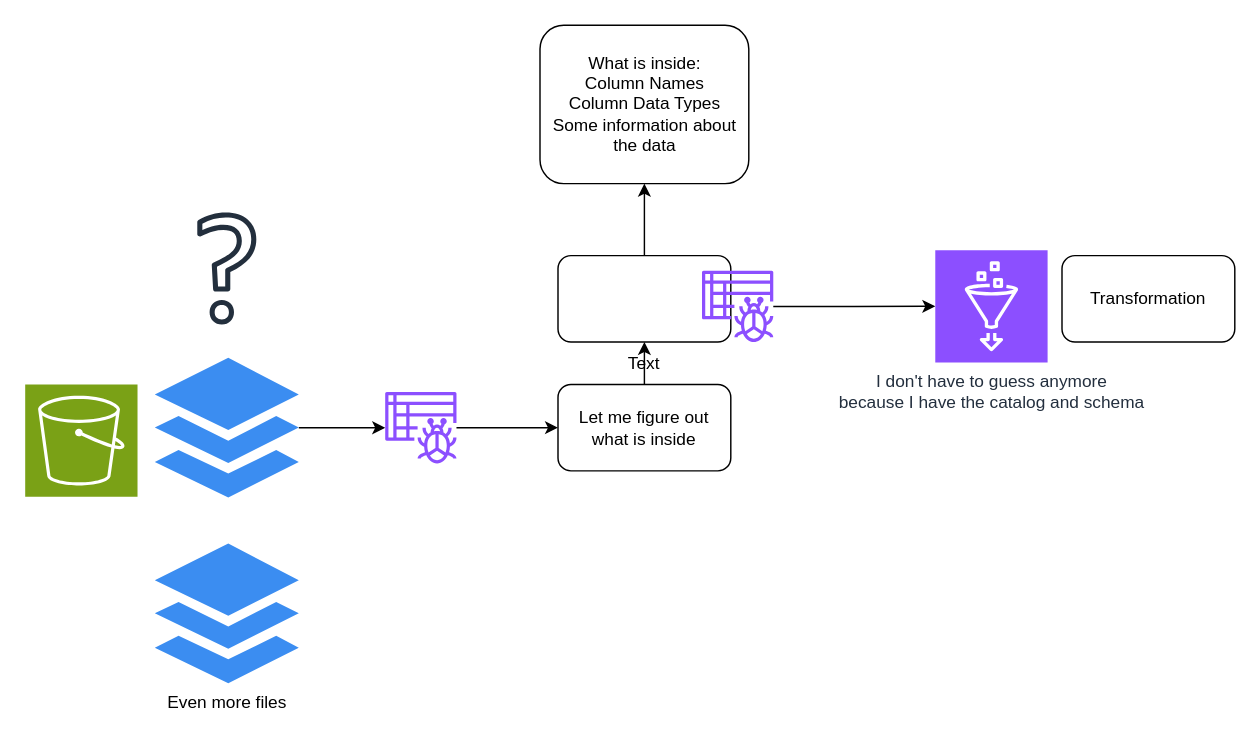
Some shapes in this 1260 by 739 pixel diagram are drawn without their labels. Here are the shapes that lost their labels. From the top down, the centre of each, then its label:
[644,298]: I will give you Schema
[226,427]: Stack of files
